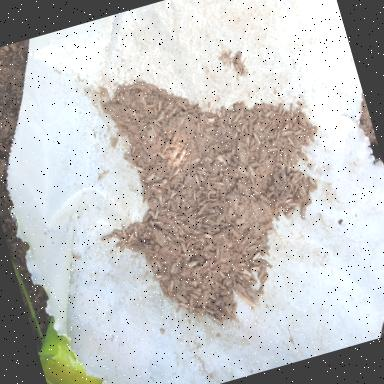pbw: (153, 166, 167, 182), (124, 151, 138, 167), (140, 210, 154, 225), (298, 204, 310, 221), (214, 305, 226, 322), (290, 180, 303, 195), (242, 276, 258, 288), (177, 148, 190, 162), (194, 304, 207, 318), (170, 178, 184, 191), (173, 274, 183, 292), (197, 112, 206, 132), (180, 193, 191, 209), (231, 50, 244, 63), (237, 164, 249, 178), (176, 290, 188, 304), (176, 300, 190, 312), (228, 260, 240, 274), (292, 172, 306, 184), (182, 170, 194, 184), (252, 286, 266, 298), (138, 126, 150, 140), (249, 221, 261, 235), (234, 137, 245, 152), (302, 130, 312, 146), (140, 185, 150, 201), (148, 257, 158, 273), (242, 267, 254, 280), (260, 257, 272, 270), (260, 193, 272, 206), (152, 206, 163, 220), (189, 244, 200, 258), (173, 97, 184, 111), (231, 226, 242, 240), (232, 101, 246, 112), (219, 286, 233, 297), (168, 218, 178, 233), (288, 157, 298, 172), (298, 113, 308, 128), (286, 176, 295, 192), (160, 140, 172, 152), (249, 164, 258, 180), (256, 268, 268, 280), (152, 184, 164, 196), (253, 130, 262, 146), (223, 174, 232, 190), (302, 174, 310, 192), (186, 298, 196, 312), (237, 271, 247, 285), (144, 173, 158, 183), (146, 148, 156, 162), (296, 188, 306, 202), (274, 148, 284, 162), (164, 158, 174, 172), (155, 272, 169, 282), (98, 170, 112, 180), (236, 179, 245, 194), (216, 213, 228, 224), (222, 112, 233, 124), (249, 264, 262, 274), (230, 302, 240, 315), (211, 281, 221, 294), (248, 143, 261, 153), (207, 224, 220, 234), (268, 163, 278, 176), (185, 187, 195, 200), (140, 90, 148, 106), (300, 182, 308, 198), (181, 251, 195, 260), (116, 94, 125, 108), (200, 278, 211, 289), (252, 122, 263, 133), (184, 267, 195, 278), (170, 150, 180, 162), (246, 122, 256, 134), (296, 130, 308, 140), (206, 216, 216, 228), (236, 276, 246, 288), (112, 230, 122, 242), (169, 262, 179, 274), (206, 238, 216, 250), (188, 260, 200, 270), (258, 274, 270, 284), (298, 151, 308, 163), (260, 246, 272, 256), (239, 236, 251, 246), (212, 183, 224, 193), (218, 154, 228, 166), (226, 164, 236, 176), (137, 152, 145, 167), (251, 186, 261, 198), (258, 169, 270, 179), (204, 144, 216, 154), (225, 123, 233, 138), (260, 198, 270, 210), (201, 243, 213, 253), (176, 214, 188, 224), (297, 136, 307, 148), (285, 161, 294, 174), (263, 157, 276, 166), (144, 185, 153, 198), (239, 222, 252, 231), (132, 224, 140, 238), (181, 240, 189, 254), (288, 104, 296, 118), (234, 62, 242, 76), (158, 230, 166, 244), (180, 278, 188, 292), (194, 267, 202, 281), (258, 122, 269, 132), (232, 114, 243, 124), (159, 178, 170, 188), (204, 231, 214, 242), (213, 296, 224, 306), (181, 160, 192, 170), (72, 252, 83, 262), (178, 266, 188, 277), (234, 274, 244, 285), (190, 225, 200, 236), (272, 201, 281, 213), (276, 104, 285, 116), (205, 206, 217, 215), (166, 210, 178, 219), (100, 234, 113, 242), (150, 124, 158, 137), (202, 113, 210, 126), (152, 243, 160, 256), (281, 172, 289, 185), (160, 195, 168, 208), (255, 116, 268, 124), (225, 303, 233, 316), (170, 133, 180, 143), (114, 85, 124, 95), (114, 228, 124, 238), (198, 168, 208, 178), (170, 176, 180, 186), (290, 172, 300, 182), (156, 112, 166, 122), (212, 314, 222, 324), (118, 242, 128, 252), (270, 139, 280, 149), (177, 118, 187, 128), (290, 122, 300, 132), (304, 198, 314, 208), (178, 115, 188, 125), (249, 258, 260, 267), (148, 84, 159, 93), (158, 88, 169, 97), (168, 231, 177, 242), (121, 224, 128, 238), (141, 150, 148, 164), (281, 130, 293, 138), (212, 276, 220, 288), (307, 132, 315, 144), (168, 279, 176, 291), (220, 104, 228, 116), (216, 116, 228, 124), (191, 286, 203, 294), (170, 200, 178, 212), (250, 160, 262, 168), (292, 138, 300, 150), (198, 172, 206, 184), (174, 230, 182, 242), (175, 198, 183, 210), (240, 246, 249, 256), (190, 279, 200, 288), (294, 128, 304, 137), (136, 164, 145, 174), (252, 252, 262, 261), (286, 208, 295, 218), (206, 307, 216, 316), (157, 150, 166, 160), (134, 82, 144, 91), (190, 292, 200, 301), (204, 132, 214, 141), (251, 107, 260, 117), (251, 114, 260, 124), (256, 235, 266, 244), (192, 190, 200, 201), (192, 270, 200, 281), (214, 248, 222, 259), (195, 123, 203, 134), (177, 224, 185, 235), (294, 196, 302, 207), (184, 210, 192, 221), (176, 244, 184, 255), (133, 110, 140, 122), (236, 58, 243, 70), (282, 150, 289, 162), (152, 181, 164, 188), (147, 128, 153, 142), (145, 252, 152, 264), (208, 175, 220, 182), (170, 215, 182, 222), (154, 119, 162, 129), (264, 110, 274, 118), (197, 165, 207, 173), (130, 146, 138, 156), (164, 200, 172, 210), (192, 104, 202, 112), (216, 180, 226, 188), (157, 196, 165, 206), (208, 258, 216, 268), (227, 114, 235, 124), (230, 129, 238, 139), (312, 126, 320, 136), (125, 226, 135, 234), (168, 192, 178, 200), (142, 144, 150, 154), (254, 102, 264, 110), (202, 250, 210, 260), (214, 189, 222, 199), (168, 240, 176, 250), (306, 122, 314, 132), (218, 280, 226, 290), (159, 206, 169, 214), (269, 111, 279, 119), (130, 136, 138, 146), (200, 202, 210, 210), (234, 250, 242, 260), (209, 201, 220, 208), (216, 125, 223, 136), (165, 182, 172, 193), (250, 174, 256, 186), (270, 103, 278, 112), (171, 106, 180, 114), (218, 170, 226, 179), (225, 278, 234, 286), (140, 158, 146, 170), (174, 256, 182, 265), (266, 228, 278, 234), (140, 178, 146, 190), (195, 174, 201, 186), (127, 234, 136, 242), (264, 102, 272, 111), (202, 260, 211, 268), (187, 232, 196, 240), (309, 176, 316, 186), (208, 189, 218, 196), (224, 225, 234, 232), (246, 245, 256, 252), (248, 237, 258, 244), (219, 270, 226, 280), (236, 218, 246, 225), (168, 142, 178, 149), (245, 112, 255, 119), (276, 176, 283, 186), (306, 190, 312, 201), (196, 216, 207, 222), (227, 138, 233, 149), (282, 124, 290, 132), (239, 110, 247, 118), (174, 168, 182, 176), (289, 150, 297, 158), (278, 160, 286, 168), (176, 304, 184, 312), (209, 294, 217, 302), (180, 181, 188, 189), (292, 146, 300, 154), (232, 132, 240, 140), (298, 124, 306, 132), (138, 170, 146, 178), (186, 207, 194, 215), (198, 200, 207, 207), (240, 125, 247, 134), (207, 155, 214, 164), (192, 157, 201, 164), (288, 202, 298, 208), (268, 146, 278, 152), (276, 130, 282, 140), (288, 136, 294, 146), (222, 122, 228, 132), (303, 112, 309, 122), (157, 102, 163, 112), (280, 156, 286, 166), (156, 260, 162, 270), (182, 102, 188, 112), (152, 164, 162, 170), (179, 110, 189, 116), (265, 192, 275, 198), (166, 103, 174, 110), (236, 126, 243, 134), (185, 148, 192, 156), (208, 117, 216, 124), (259, 285, 266, 293), (228, 271, 236, 278), (151, 210, 156, 221), (246, 138, 252, 147), (206, 181, 212, 190), (178, 229, 184, 238), (138, 81, 147, 87), (149, 219, 155, 228), (238, 262, 247, 268), (206, 192, 212, 201), (200, 237, 207, 244), (249, 139, 256, 146), (140, 222, 148, 228), (180, 236, 186, 244), (147, 104, 155, 110), (206, 126, 214, 132), (203, 157, 209, 165), (290, 116, 298, 122), (120, 95, 126, 103), (278, 206, 286, 212), (154, 230, 159, 239), (166, 284, 172, 291), (166, 235, 172, 242), (210, 197, 218, 202), (196, 211, 204, 216), (273, 176, 278, 184), (154, 220, 162, 225), (219, 110, 224, 118), (162, 260, 170, 265), (280, 144, 286, 150), (116, 242, 122, 248), (276, 144, 282, 150), (262, 108, 268, 114), (217, 110, 221, 118), (128, 86, 136, 90), (286, 198, 292, 203), (285, 205, 291, 210), (186, 242, 191, 248), (282, 110, 287, 115), (144, 94, 148, 98)
